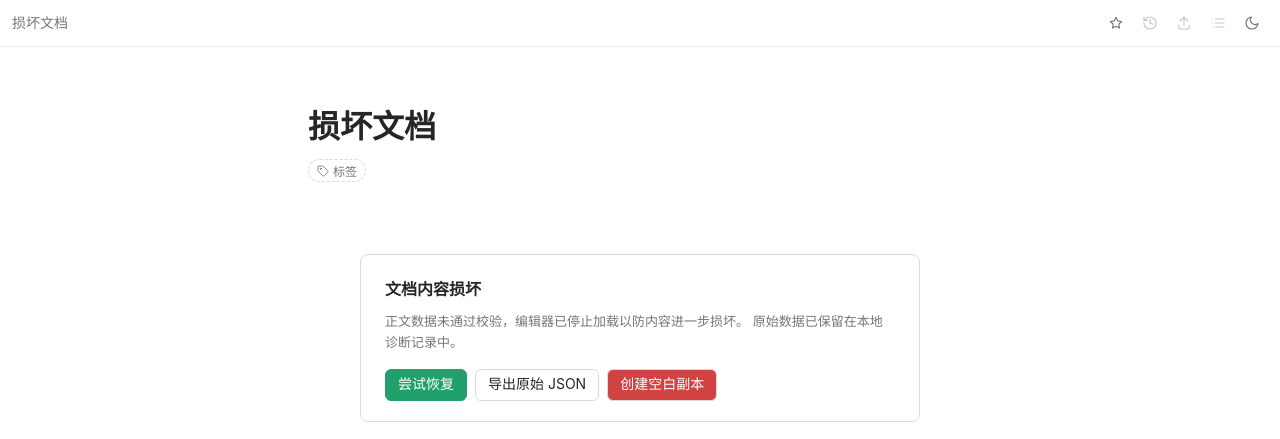
Test: MainArea 损坏正文面板 › 尝试恢复：sanitize 结果进入编辑器并落盘
Click the button "尝试恢复". click: (426, 385)
box: x1=385 y1=369 x2=467 y2=401
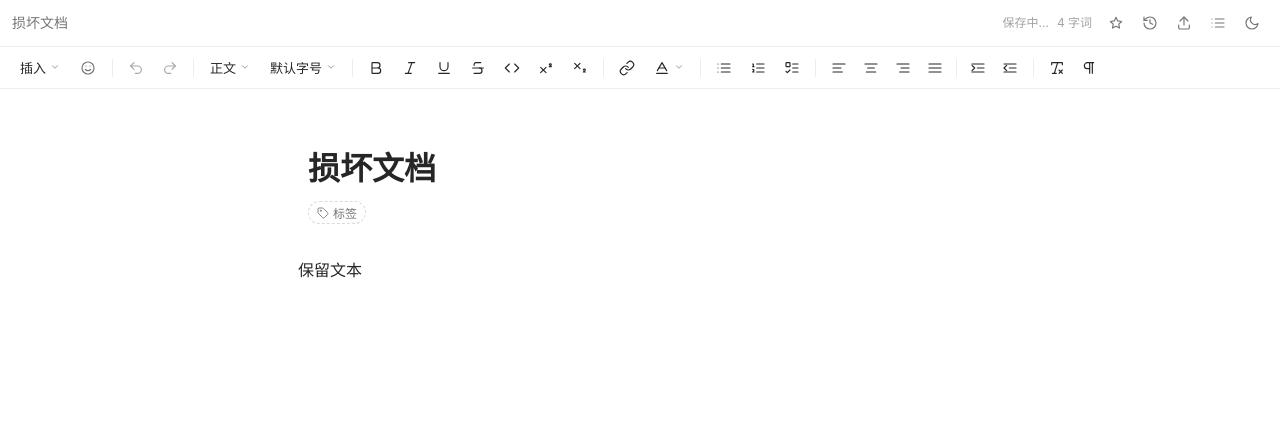
Expected: the text box "保留文本" is shown, x1=298 y1=260 x2=362 y2=280
